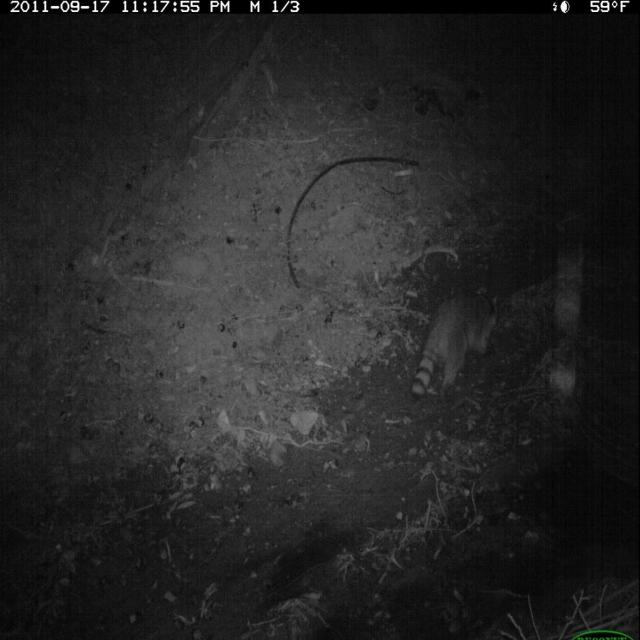raccoon: (403, 275, 508, 419)
